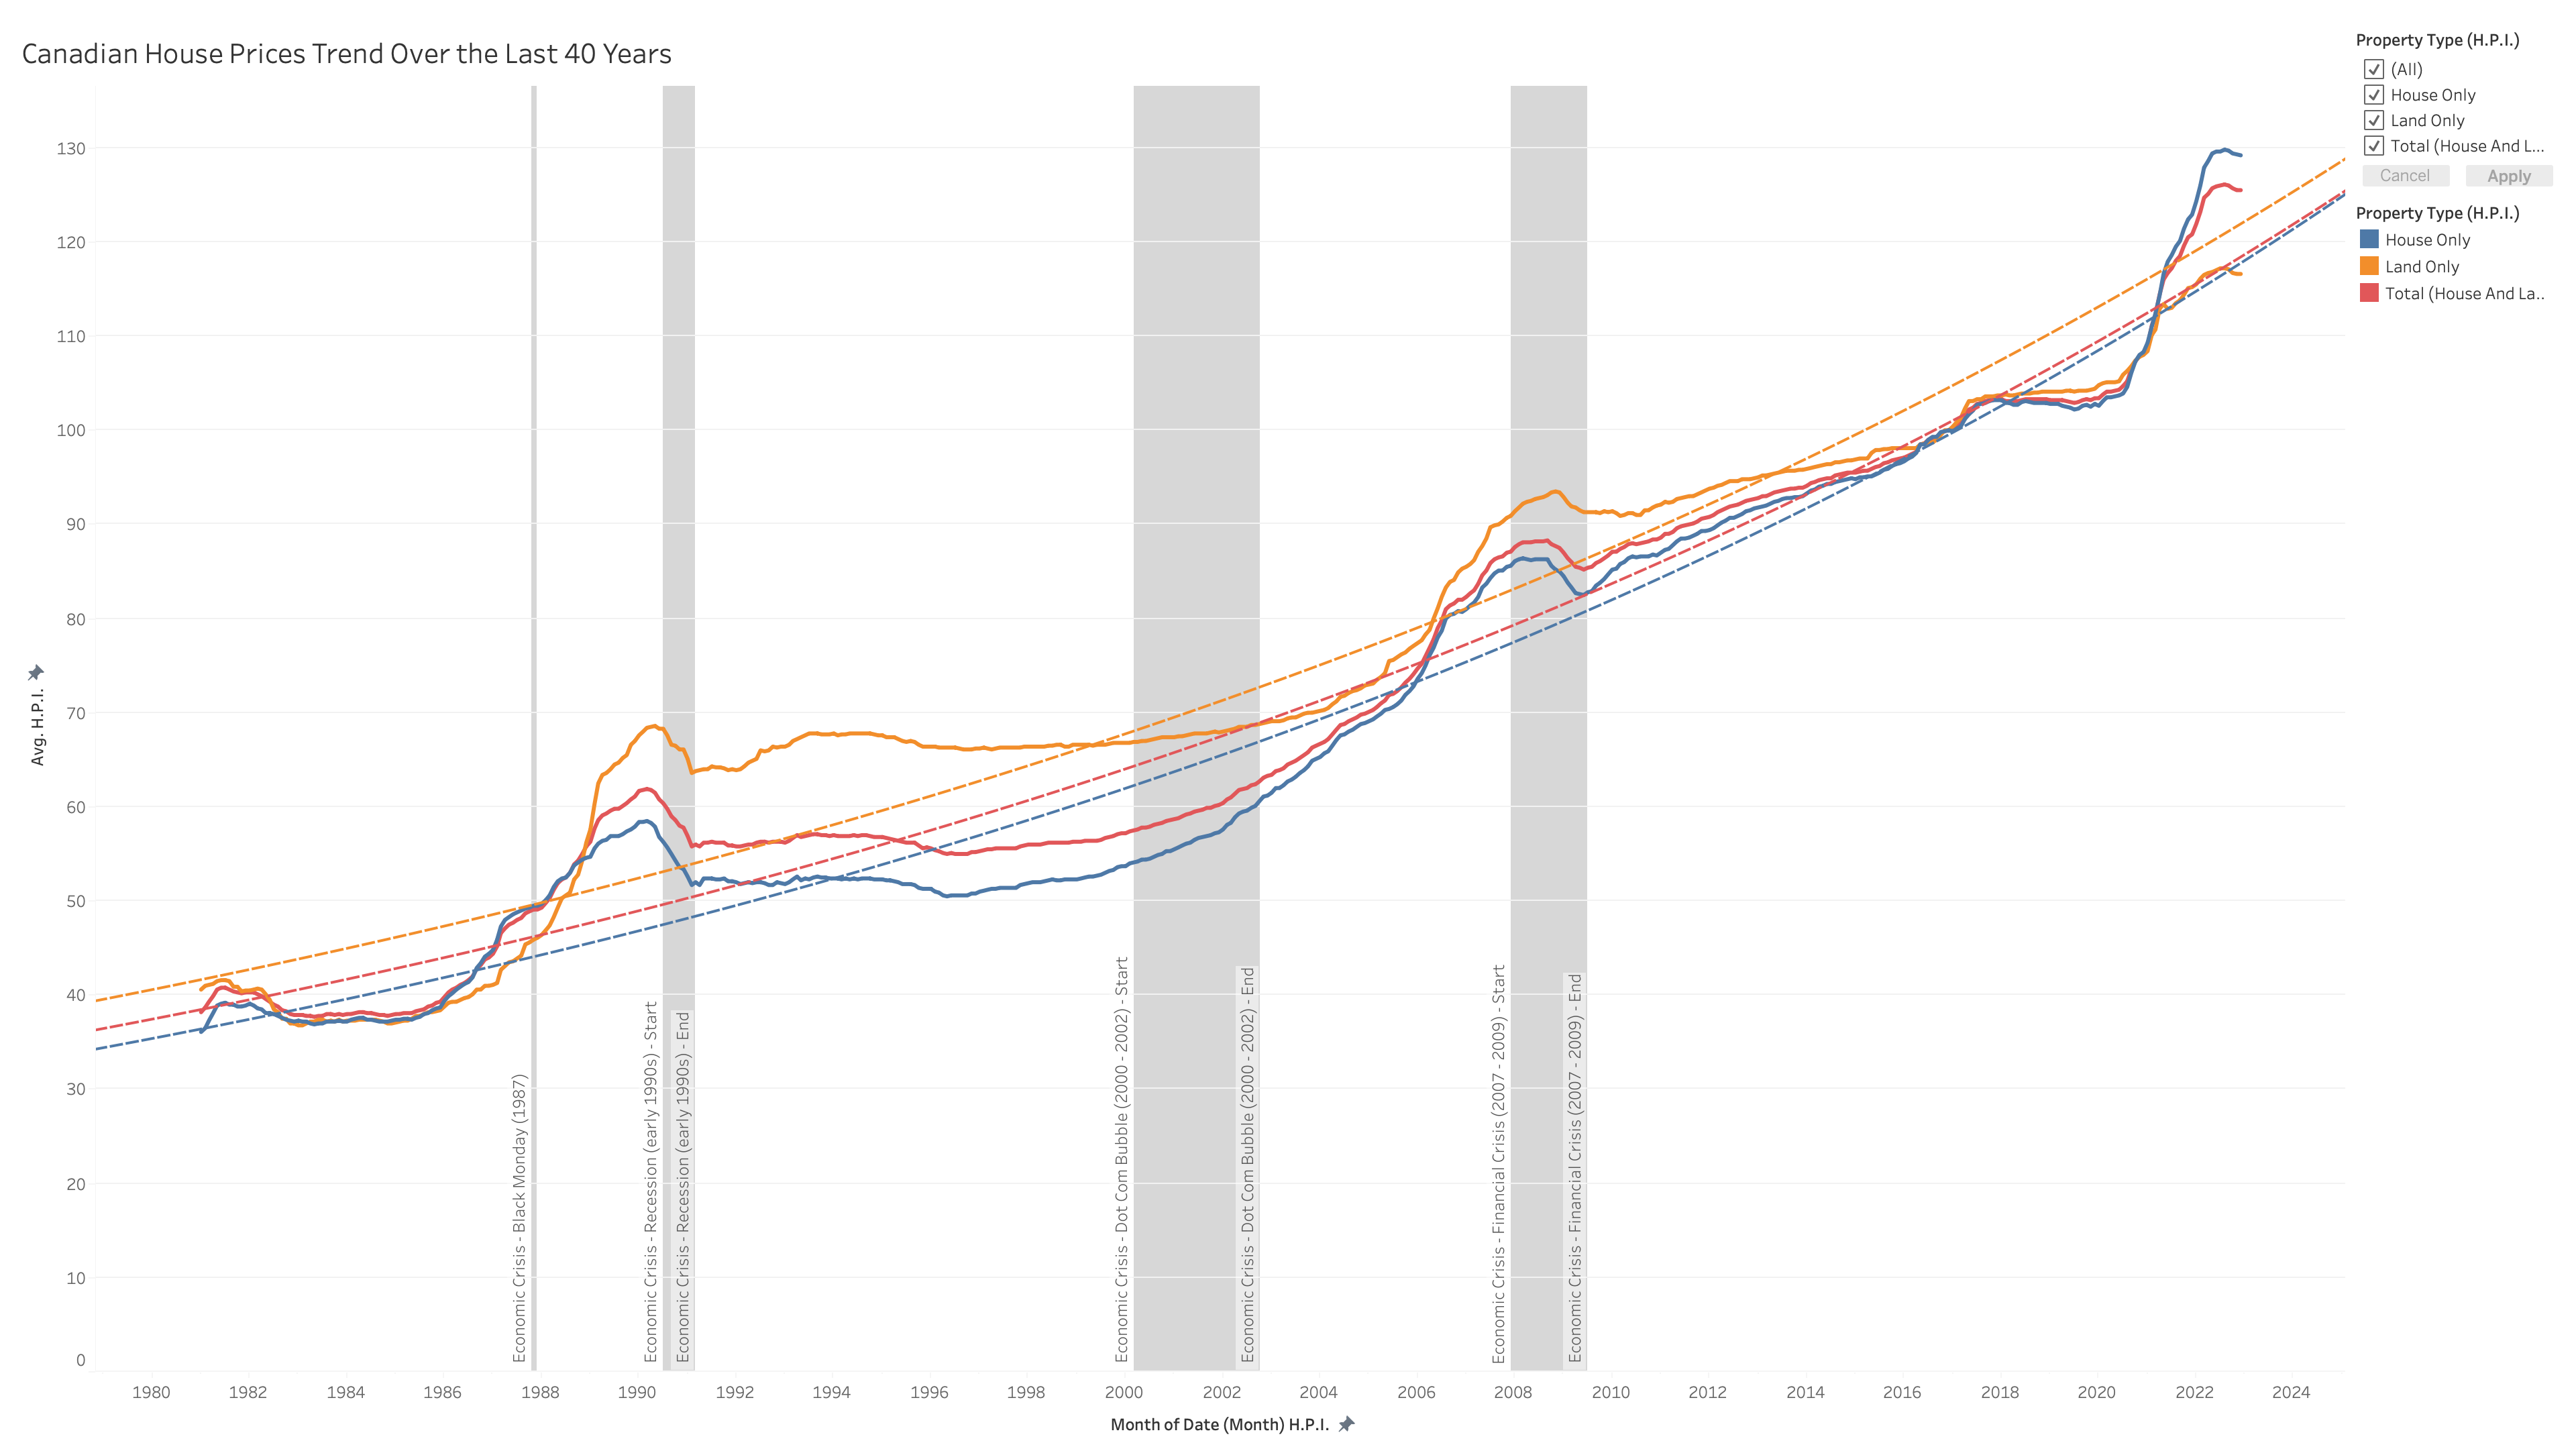

This screenshot's page, from the dashboard's own definition file:
{"tool":"tableau","page":{"name":"Dashboard Q1","canvas":[1920,1080],"ordinal":2},"visuals":[{"type":"worksheet","title":"Canadian House Prices Trend Over the Last 40 Years","mark":"Automatic","rows":["H.P.I."],"cols":["Date (Month) H.P.I."],"box":[8,8,1744,1064]},{"type":"filter","title":"Canadian House Prices Trend Over the Last 40 Years","param":"[federated.0h3vvpx1g9mxug19i74591ak7h1p].[none:Property Type (H.P.I.):nk]","box":[1752,8,160,129]},{"type":"legend","title":"Canadian House Prices Trend Over the Last 40 Years","param":"[federated.0h3vvpx1g9mxug19i74591ak7h1p].[none:Property Type (H.P.I.):nk]","box":[1752,137,160,86]}]}

Visuals, with their boxes in screenshot pixels (x1, y1, x2, y2), scaled from the page's 1920x1080 canvas onto the 2576x1449 screenshot:
"Canadian House Prices Trend Over the Last 40 Years" worksheet: region(11, 11, 2351, 1438)
"Canadian House Prices Trend Over the Last 40 Years" filter: region(2351, 11, 2565, 184)
"Canadian House Prices Trend Over the Last 40 Years" legend: region(2351, 184, 2565, 299)
